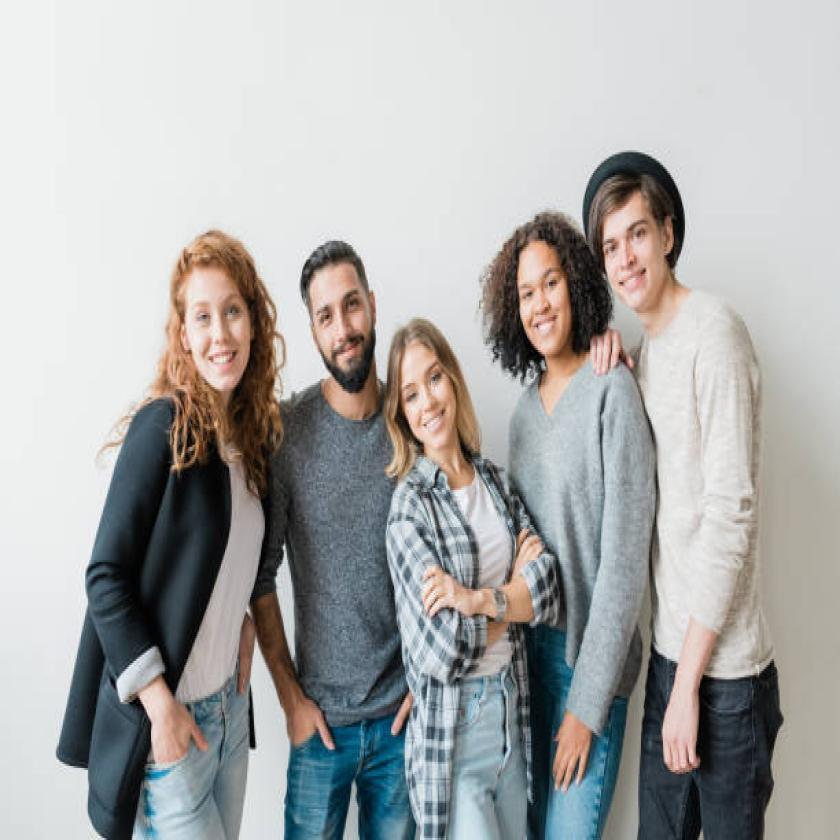Sin_casco: (159, 206, 286, 434), (376, 304, 492, 483), (488, 186, 592, 382), (297, 217, 377, 409)
